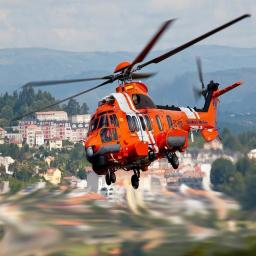helicopter: (17, 15, 252, 190)
